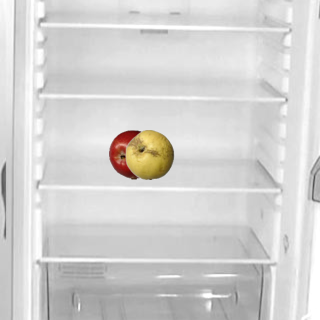Apple Braeburn: (108, 129, 158, 179)
Apple Golden 1: (124, 129, 174, 179)
